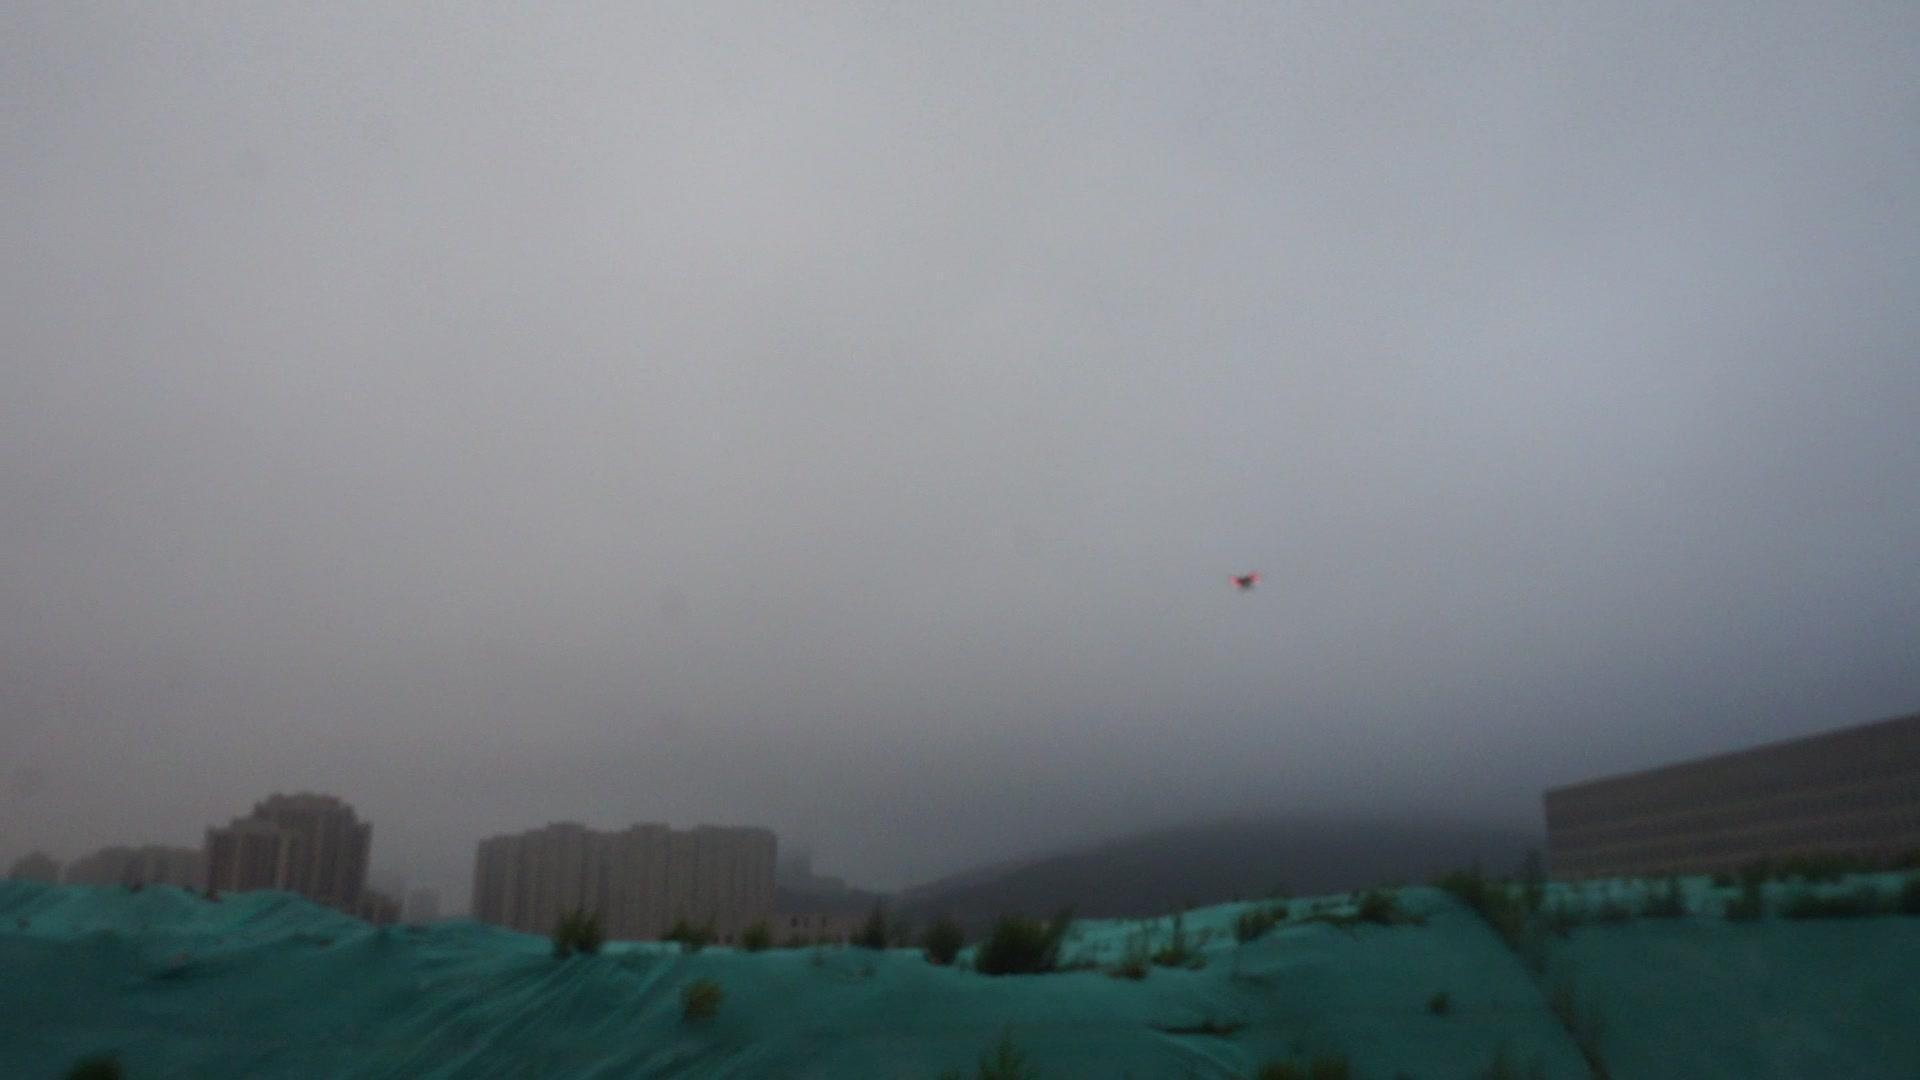UAV: (1230, 574, 1262, 591)
